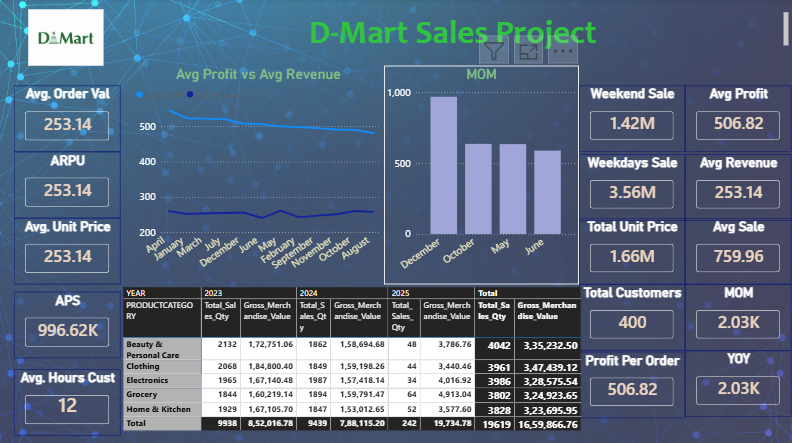

Layout of this report page (visuals, bound fields, positions):
{"tool":"powerbi","page":{"name":"Details","canvas":[1280,720],"ordinal":1},"visuals":[{"type":"image","box":[0,18.3,216.6,91.4],"z":0},{"type":"textbox","box":[193.7,18.2,1085.7,68.6],"z":1000},{"type":"cardVisual","title":"Avg. Order Val","fields":{"Data":["My_Calender.Avg_Order_Value"]},"box":[23.5,140.9,172.3,107],"z":2000},{"type":"cardVisual","title":"ARPU","fields":{"Data":["My_Calender.Avg_Rev_Per_Unit"]},"box":[23.5,248,172.3,107],"z":3000},{"type":"cardVisual","title":"Avg. Unit Price","fields":{"Data":["My_Calender.Avg_Unit_Price"]},"box":[23.5,355,172.3,107],"z":4000},{"type":"cardVisual","title":"APS","fields":{"Data":["My_Calender.Avg. Product_Sale"]},"box":[23.5,475,172.3,107],"z":5000},{"type":"cardVisual","title":"Avg. Hours Cust","fields":{"Data":["My_Calender.Avg._Hours_Spend_by_Cust"]},"box":[23.5,600.3,172.3,107],"z":6000},{"type":"lineChart","title":"Avg Profit vs Avg Revenue","fields":{"Y":["My_Calender.Avg._Profit","My_Calender.Avg._Revenue"],"Category":["Dmart_data.MONTH"]},"box":[215.9,109,405.6,353.1],"z":7000},{"type":"lineClusteredColumnComboChart","title":"MOM","fields":{"Category":["Dmart_data.MONTH"],"Y":["My_Calender.MOM"]},"box":[621.5,109,314.8,353.1],"z":8000},{"type":"cardVisual","title":"Avg Profit","fields":{"Data":["My_Calender.Avg._Profit"]},"box":[1107.9,141.3,171.5,107],"z":9000},{"type":"cardVisual","title":"Avg Revenue","fields":{"Data":["My_Calender.Avg._Revenue"]},"box":[1107.9,252.2,171.5,107],"z":10000},{"type":"cardVisual","title":"Avg Sale","fields":{"Data":["My_Calender.Avg._Sale"]},"box":[1107.9,355.2,171.5,107],"z":11000},{"type":"cardVisual","title":"MOM","fields":{"Data":["My_Calender.MOM"]},"box":[1107.9,462.1,171.5,107],"z":12000},{"type":"cardVisual","title":"YOY","fields":{"Data":["My_Calender.YOY"]},"box":[1107.9,569.1,171.5,107],"z":13000},{"type":"cardVisual","title":"Weekend Sale","fields":{"Data":["My_Calender.Weekend_Sales"]},"box":[936.3,141.3,171.5,107],"z":14000},{"type":"cardVisual","title":"Weekdays Sale","fields":{"Data":["My_Calender.Weekdays_Sales"]},"box":[936.3,252.2,171.5,107],"z":15000},{"type":"cardVisual","title":"Total Unit Price","fields":{"Data":["My_Calender.Total_Unit_Price"]},"box":[936.3,355.2,171.5,107],"z":16000},{"type":"cardVisual","title":"Total Customers","fields":{"Data":["My_Calender.Total_Customers"]},"box":[936.3,462.1,171.5,107],"z":17000},{"type":"cardVisual","title":"Profit Per Order","fields":{"Data":["My_Calender.Profit_Per_Order"]},"box":[936.3,571.1,171.5,107],"z":18000},{"type":"pivotTable","fields":{"Rows":["Dmart_data.PRODUCTCATEGORY"],"Values":["My_Calender.Total_Sales_Qty","My_Calender.Gross_Merchandise_Value"],"Columns":["Dmart_data.YEAR"]},"box":[195.7,462.1,748.7,244.2],"z":19000}]}

Visuals, with their boxes in screenshot pixels (x1, y1, x2, y2), scaled from the page's 1280x720 canvas onto the 792x443 screenshot:
image: {"left": 0, "top": 11, "right": 134, "bottom": 67}
textbox: {"left": 120, "top": 11, "right": 791, "bottom": 53}
"Avg. Order Val" cardVisual: {"left": 15, "top": 87, "right": 121, "bottom": 153}
"ARPU" cardVisual: {"left": 15, "top": 153, "right": 121, "bottom": 218}
"Avg. Unit Price" cardVisual: {"left": 15, "top": 218, "right": 121, "bottom": 284}
"APS" cardVisual: {"left": 15, "top": 292, "right": 121, "bottom": 358}
"Avg. Hours Cust" cardVisual: {"left": 15, "top": 369, "right": 121, "bottom": 435}
"Avg Profit vs Avg Revenue" lineChart: {"left": 134, "top": 67, "right": 385, "bottom": 284}
"MOM" lineClusteredColumnComboChart: {"left": 385, "top": 67, "right": 579, "bottom": 284}
"Avg Profit" cardVisual: {"left": 686, "top": 87, "right": 791, "bottom": 153}
"Avg Revenue" cardVisual: {"left": 686, "top": 155, "right": 791, "bottom": 221}
"Avg Sale" cardVisual: {"left": 686, "top": 219, "right": 791, "bottom": 284}
"MOM" cardVisual: {"left": 686, "top": 284, "right": 791, "bottom": 350}
"YOY" cardVisual: {"left": 686, "top": 350, "right": 791, "bottom": 416}
"Weekend Sale" cardVisual: {"left": 579, "top": 87, "right": 685, "bottom": 153}
"Weekdays Sale" cardVisual: {"left": 579, "top": 155, "right": 685, "bottom": 221}
"Total Unit Price" cardVisual: {"left": 579, "top": 219, "right": 685, "bottom": 284}
"Total Customers" cardVisual: {"left": 579, "top": 284, "right": 685, "bottom": 350}
"Profit Per Order" cardVisual: {"left": 579, "top": 351, "right": 685, "bottom": 417}
pivotTable - Dmart_data.PRODUCTCATEGORY x My_Calender.Total_Sales_Qty: {"left": 121, "top": 284, "right": 584, "bottom": 435}
